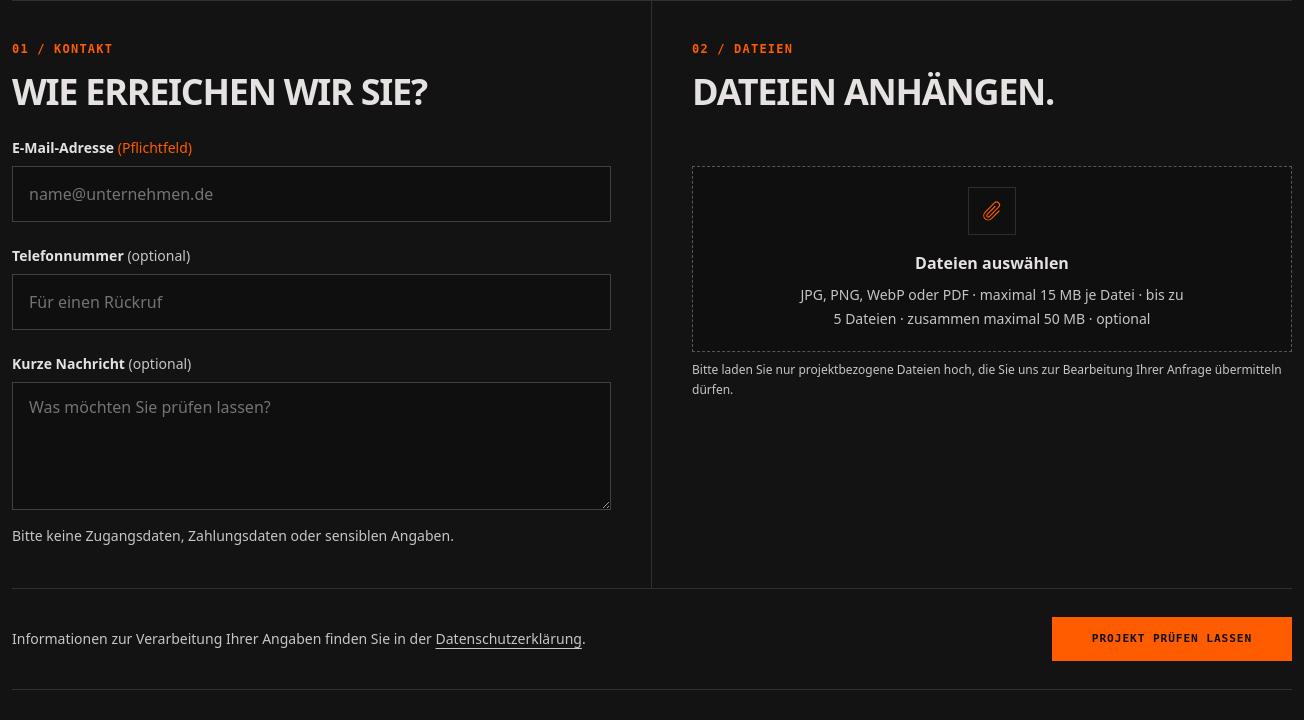
Test: LeadForm measurement › queues no conversion when finalization and status recovery both fail
The image size is (1304, 720).
Type "test@example.test" into the field labelled "E-Mail-Adresse (Pflichtfeld)".
click(312, 194); type("test@example.test")  # box [12,166,611,222]
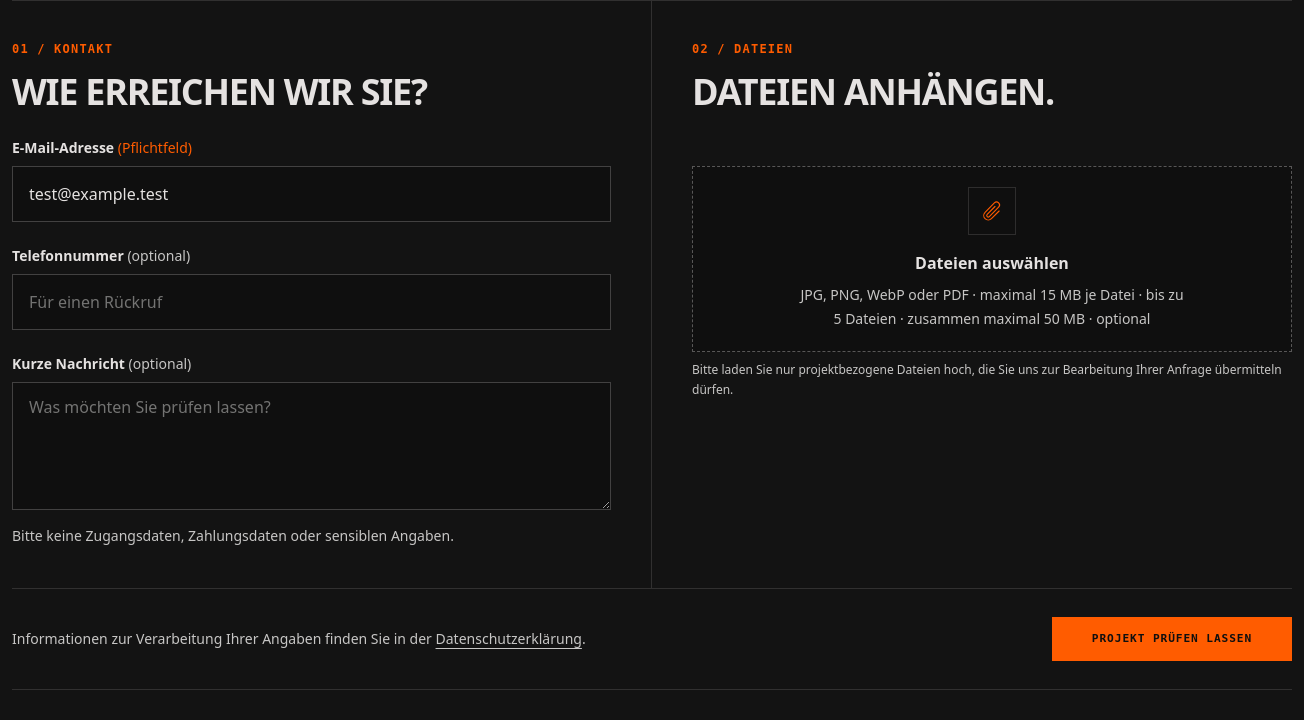
Submit the form "E-Mail-Adresse"
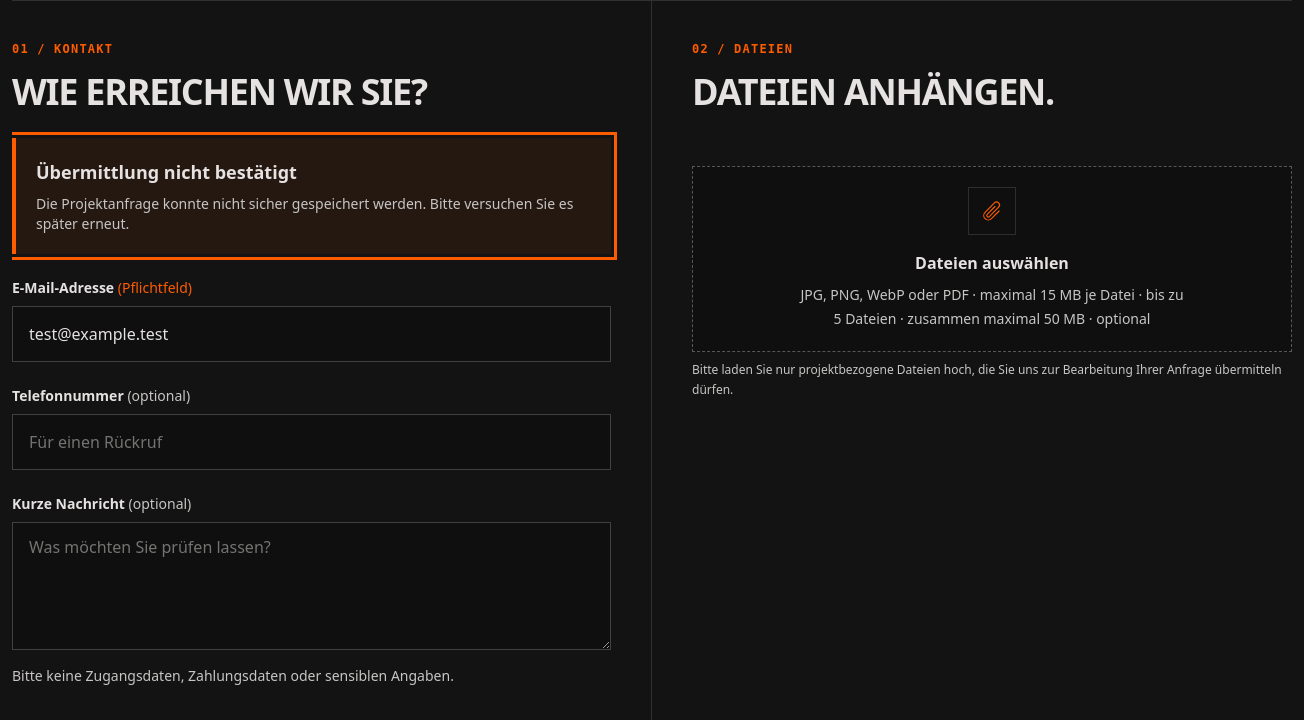
Now the text "konnte nicht sicher gespeichert werden" is shown, box [36,194,573,233]
